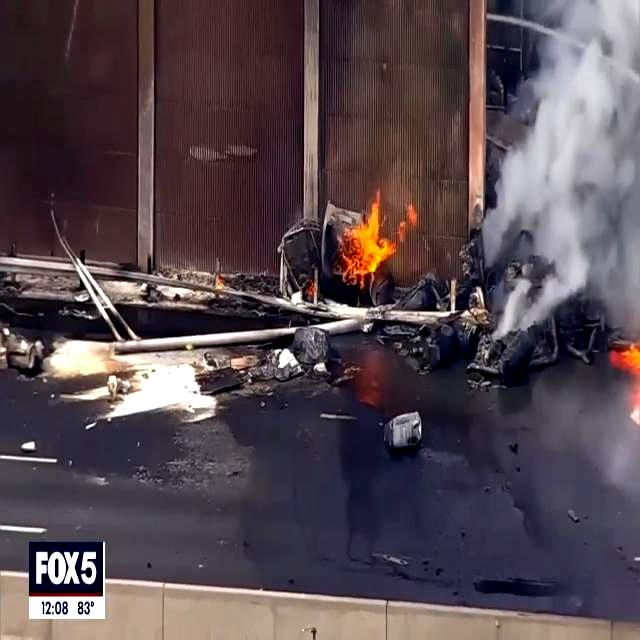fire: (354, 195, 418, 281)
